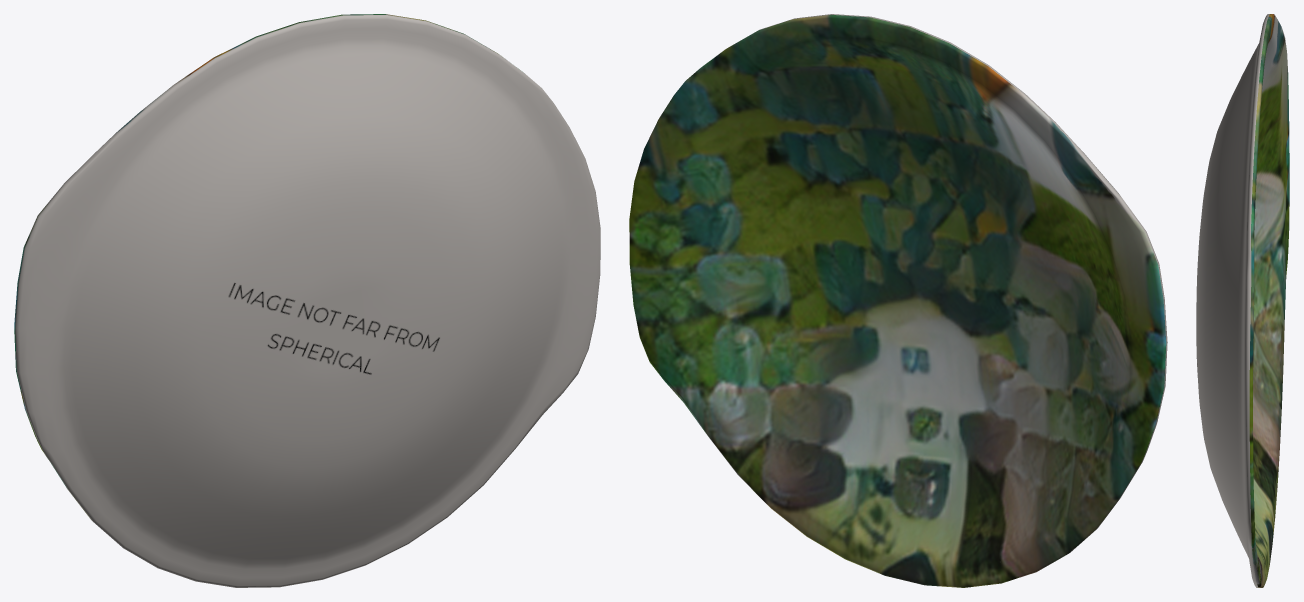
The picture shows the model from 3 angles, left to right: view 1: azimuth 30°, elevation 25°; view 2: azimuth 150°, elevation 25°; view 3: azimuth 270°, elevation 25°; orthographic projection. The views are drawn at different scales.
Parts seen in each view (by area): view 1: bluewhitered39:_bluewhitered_39_remodel1 group; view 2: bluewhitered39:_bluewhitered_39_remodel1 group; view 3: bluewhitered39:_bluewhitered_39_remodel1 group.
Boxes of the visible parts, <box> form: bluewhitered39:_bluewhitered_39_remodel1 group: <box>14,14,600,587</box>; bluewhitered39:_bluewhitered_39_remodel1 group: <box>629,14,1167,587</box>; bluewhitered39:_bluewhitered_39_remodel1 group: <box>1196,14,1289,587</box>.
Size of the model in its own units: 8.8 by 8.37 by 1.36.
Materials: 1 (1 with a texture image).
